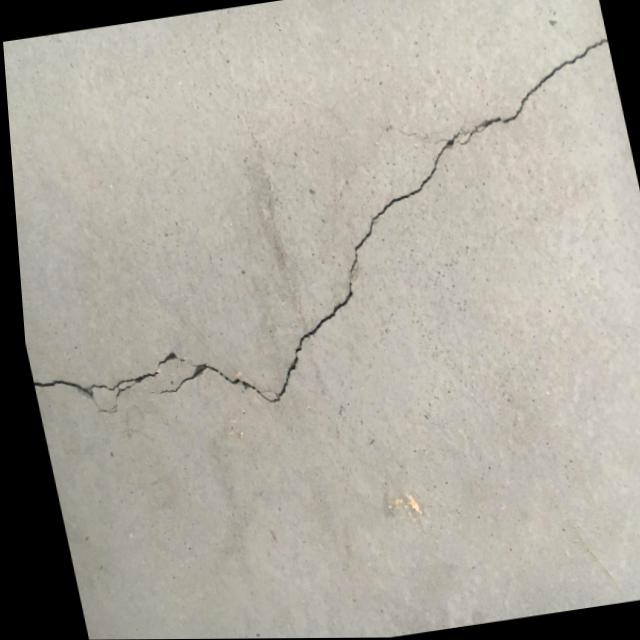Crack: (21, 324, 271, 448), (426, 31, 626, 157), (313, 137, 479, 288), (239, 279, 378, 407)
